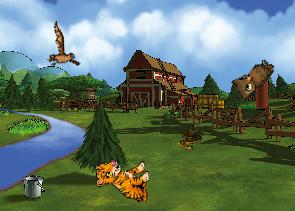eagle: (32, 21, 90, 79)
owl: (226, 50, 276, 104)
tiger: (94, 156, 152, 206)
